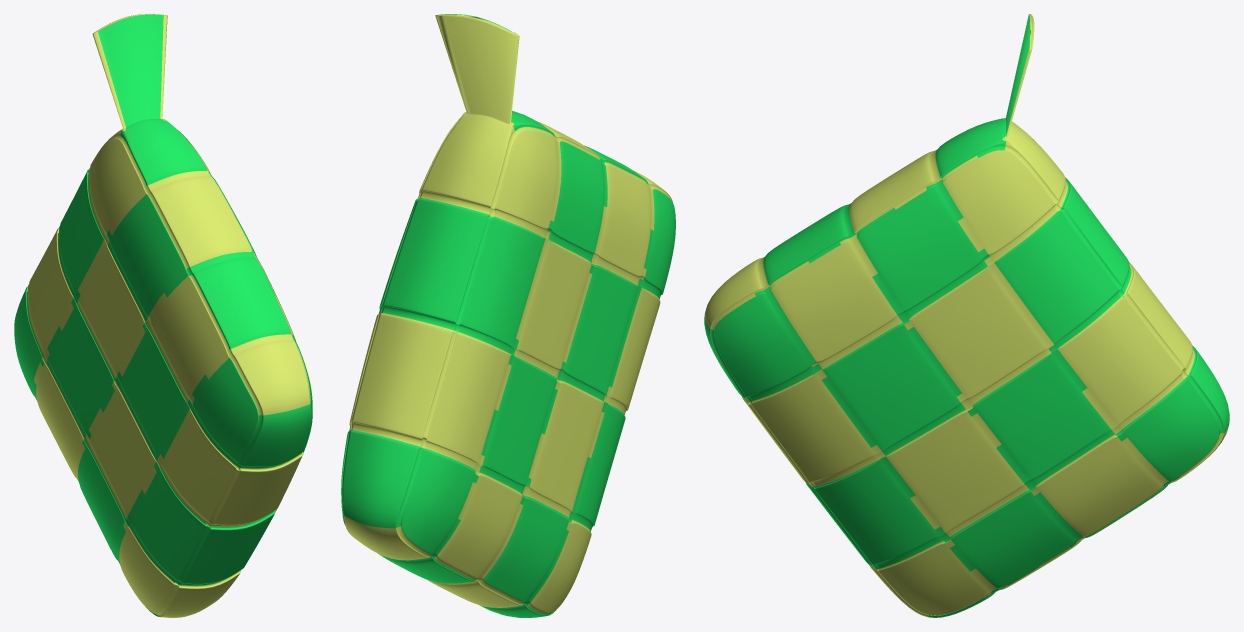
File: ketupat.fbx
3 renders of one model, left to right at view 1: azimuth 30°, elevation 25°; view 2: azimuth 150°, elevation 25°; view 3: azimuth 270°, elevation 25°, orthographic. The views are drawn at different scales.
Visible parts, largest first — view 1: Cube; view 2: Cube; view 3: Cube.
Part boxes in pixels (x1,y1,x2,y2): Cube: [14, 14, 312, 617]; Cube: [341, 14, 675, 617]; Cube: [704, 14, 1229, 617].
Bounding box in the file's own units: 42.64 × 196 × 159.
